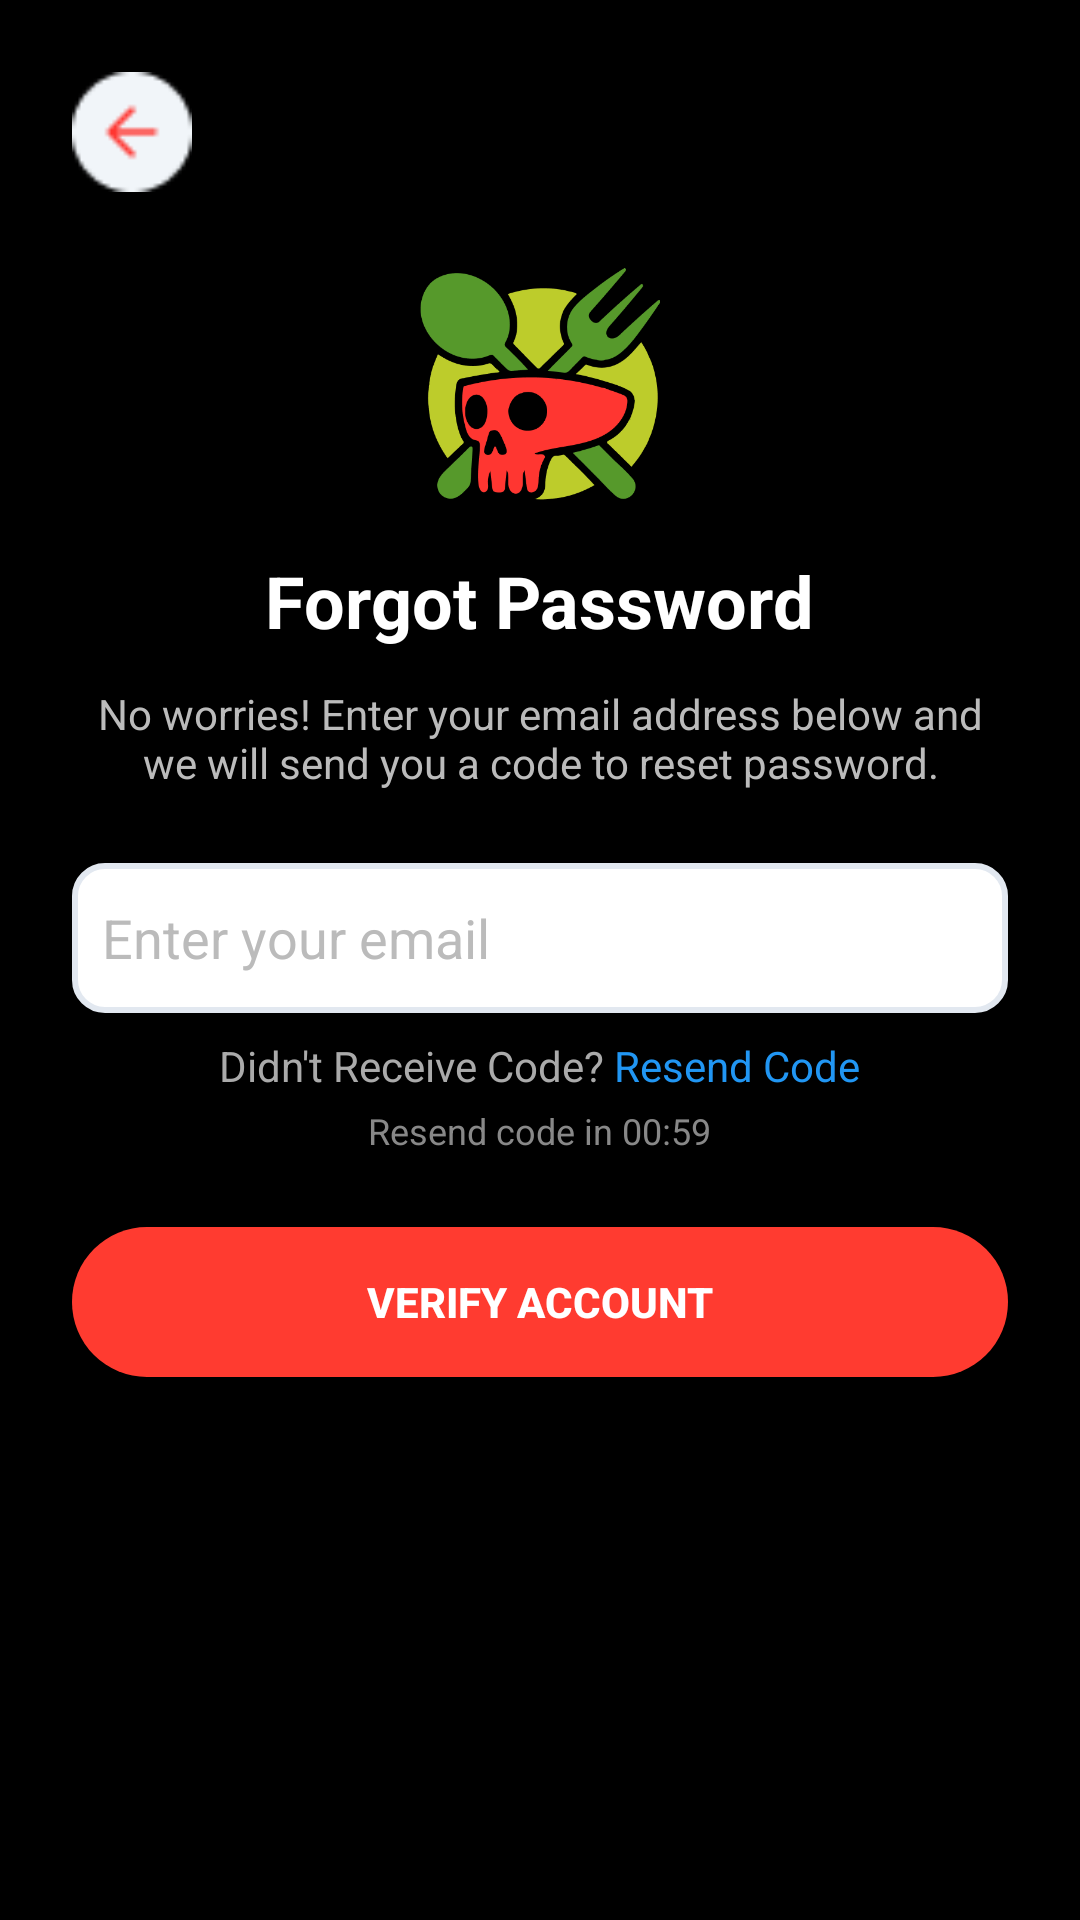

Icons on this 1080 × 1920 Android screen, each with the point to tap as (x,y):
back: (132,132)
